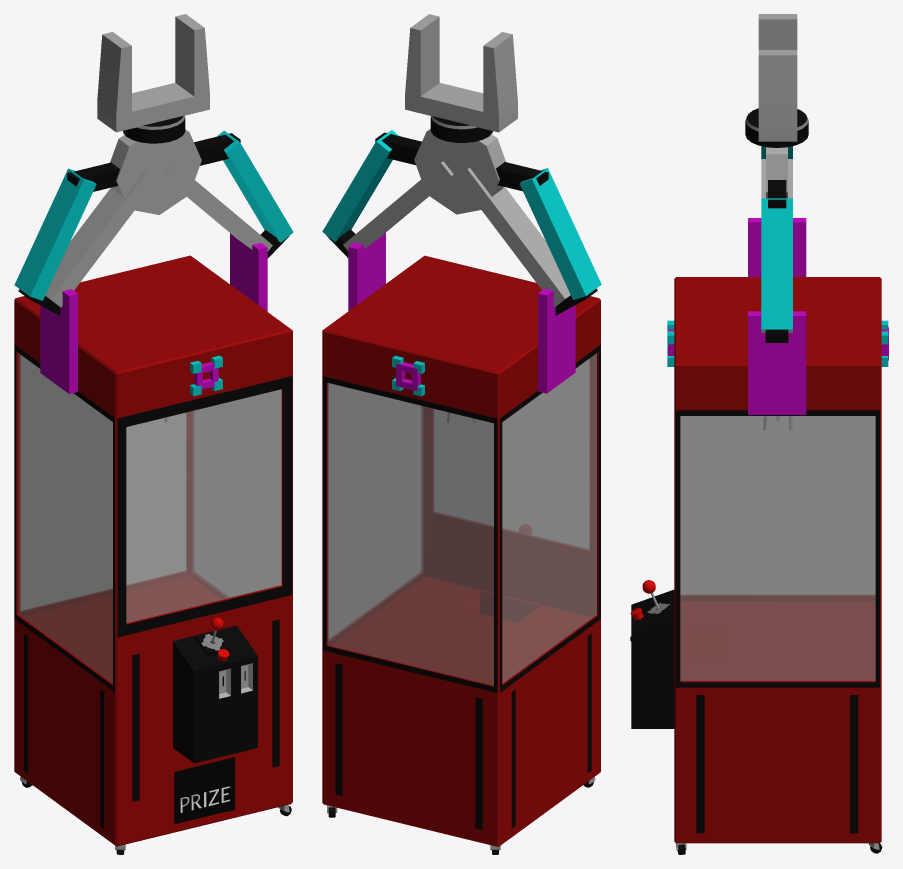
Rendered from WW_clawmachine_prop_2.fbx.
3 renders of one model, left to right at view 1: azimuth 30°, elevation 25°; view 2: azimuth 150°, elevation 25°; view 3: azimuth 270°, elevation 25°, orthographic.
Parts seen in each view (by area): view 1: polySurface29, glass, polySurface25, prizedoor, key_door; view 2: polySurface29, glass, polySurface25; view 3: polySurface29, glass.
Part boxes in pixels (x1,y1,x2,y2): polySurface29: (14,14,293,854); glass: (18,353,281,683); polySurface25: (21,355,186,610); prizedoor: (174,757,234,824); key_door: (194,667,213,730); polySurface29: (322,14,601,854); glass: (329,353,596,683); polySurface25: (327,383,493,685); polySurface29: (631,14,888,854); glass: (680,416,875,680).
Bounding box in the file's own units: 114 × 318 × 95.78.
